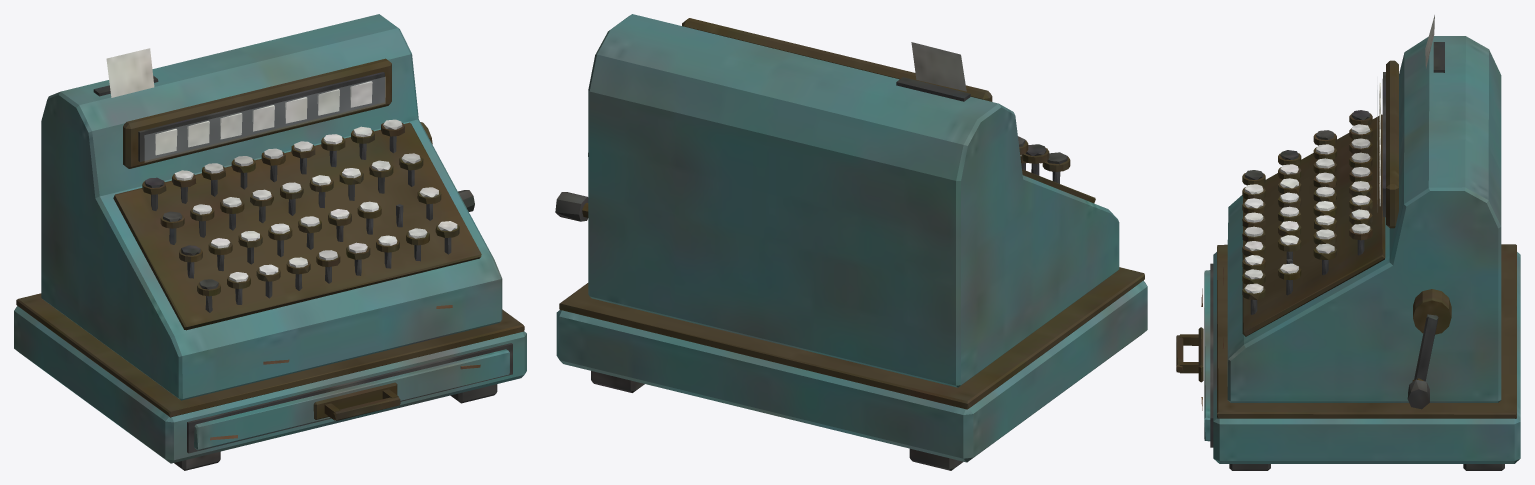
File: O31_cash_register.glb
3 views of the same model, side by side, from view 1: azimuth 30°, elevation 25°; view 2: azimuth 150°, elevation 25°; view 3: azimuth 270°, elevation 25° (orthographic). The views are drawn at different scales.
Parts seen in each view (by area): view 1: Rubber foot; view 2: Rubber foot; view 3: Rubber foot.
Boxes of the visible parts, x1,y1,x2,y2 form: Rubber foot: (14, 14, 526, 470); Rubber foot: (555, 14, 1147, 470); Rubber foot: (1176, 15, 1520, 470).
Size of the model in its own units: 0.4 by 0.3106 by 0.3012.
Materials: 8 (7 with a texture image).
